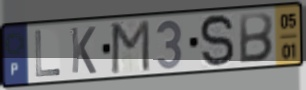3: (155, 18, 184, 72)
B: (237, 11, 275, 65)
K: (69, 25, 98, 76)
L: (33, 29, 63, 79)
M: (109, 18, 152, 76)
S: (198, 12, 237, 70)
